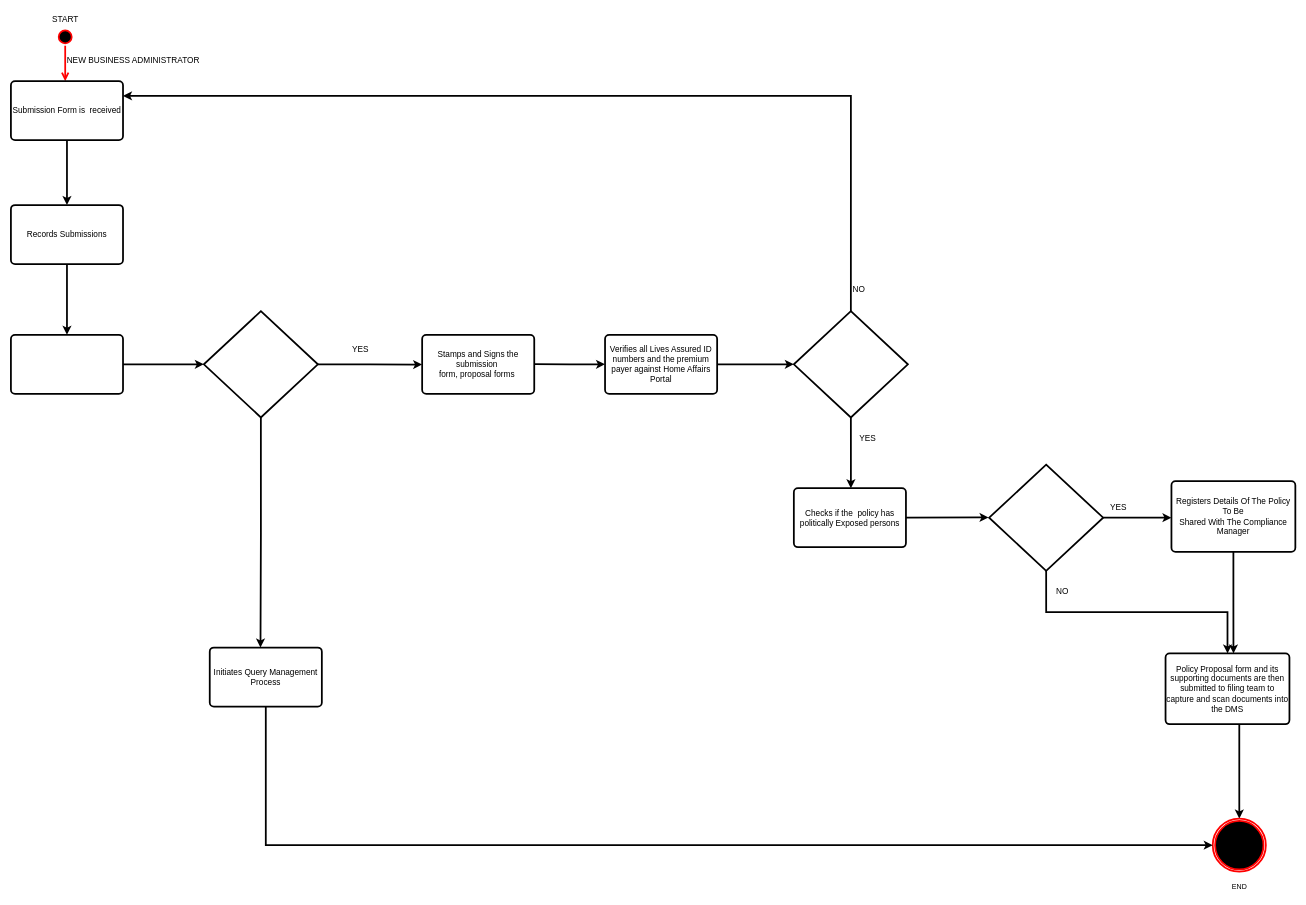
Some shapes in this 1306 by 905 pixel diagram are drawn without their labels. Each missing label, with the centre of its shape:
"Are All ID Numbers Valid?" belongs at point (850, 364).
"Are Documents and Policy Information correct and complete?" belongs at point (260, 364).
"Checks Submitted documents and policy information are correct and complete" belongs at point (67, 364).
"Does policy have Politically Exposed Persons?" belongs at point (1046, 517).
